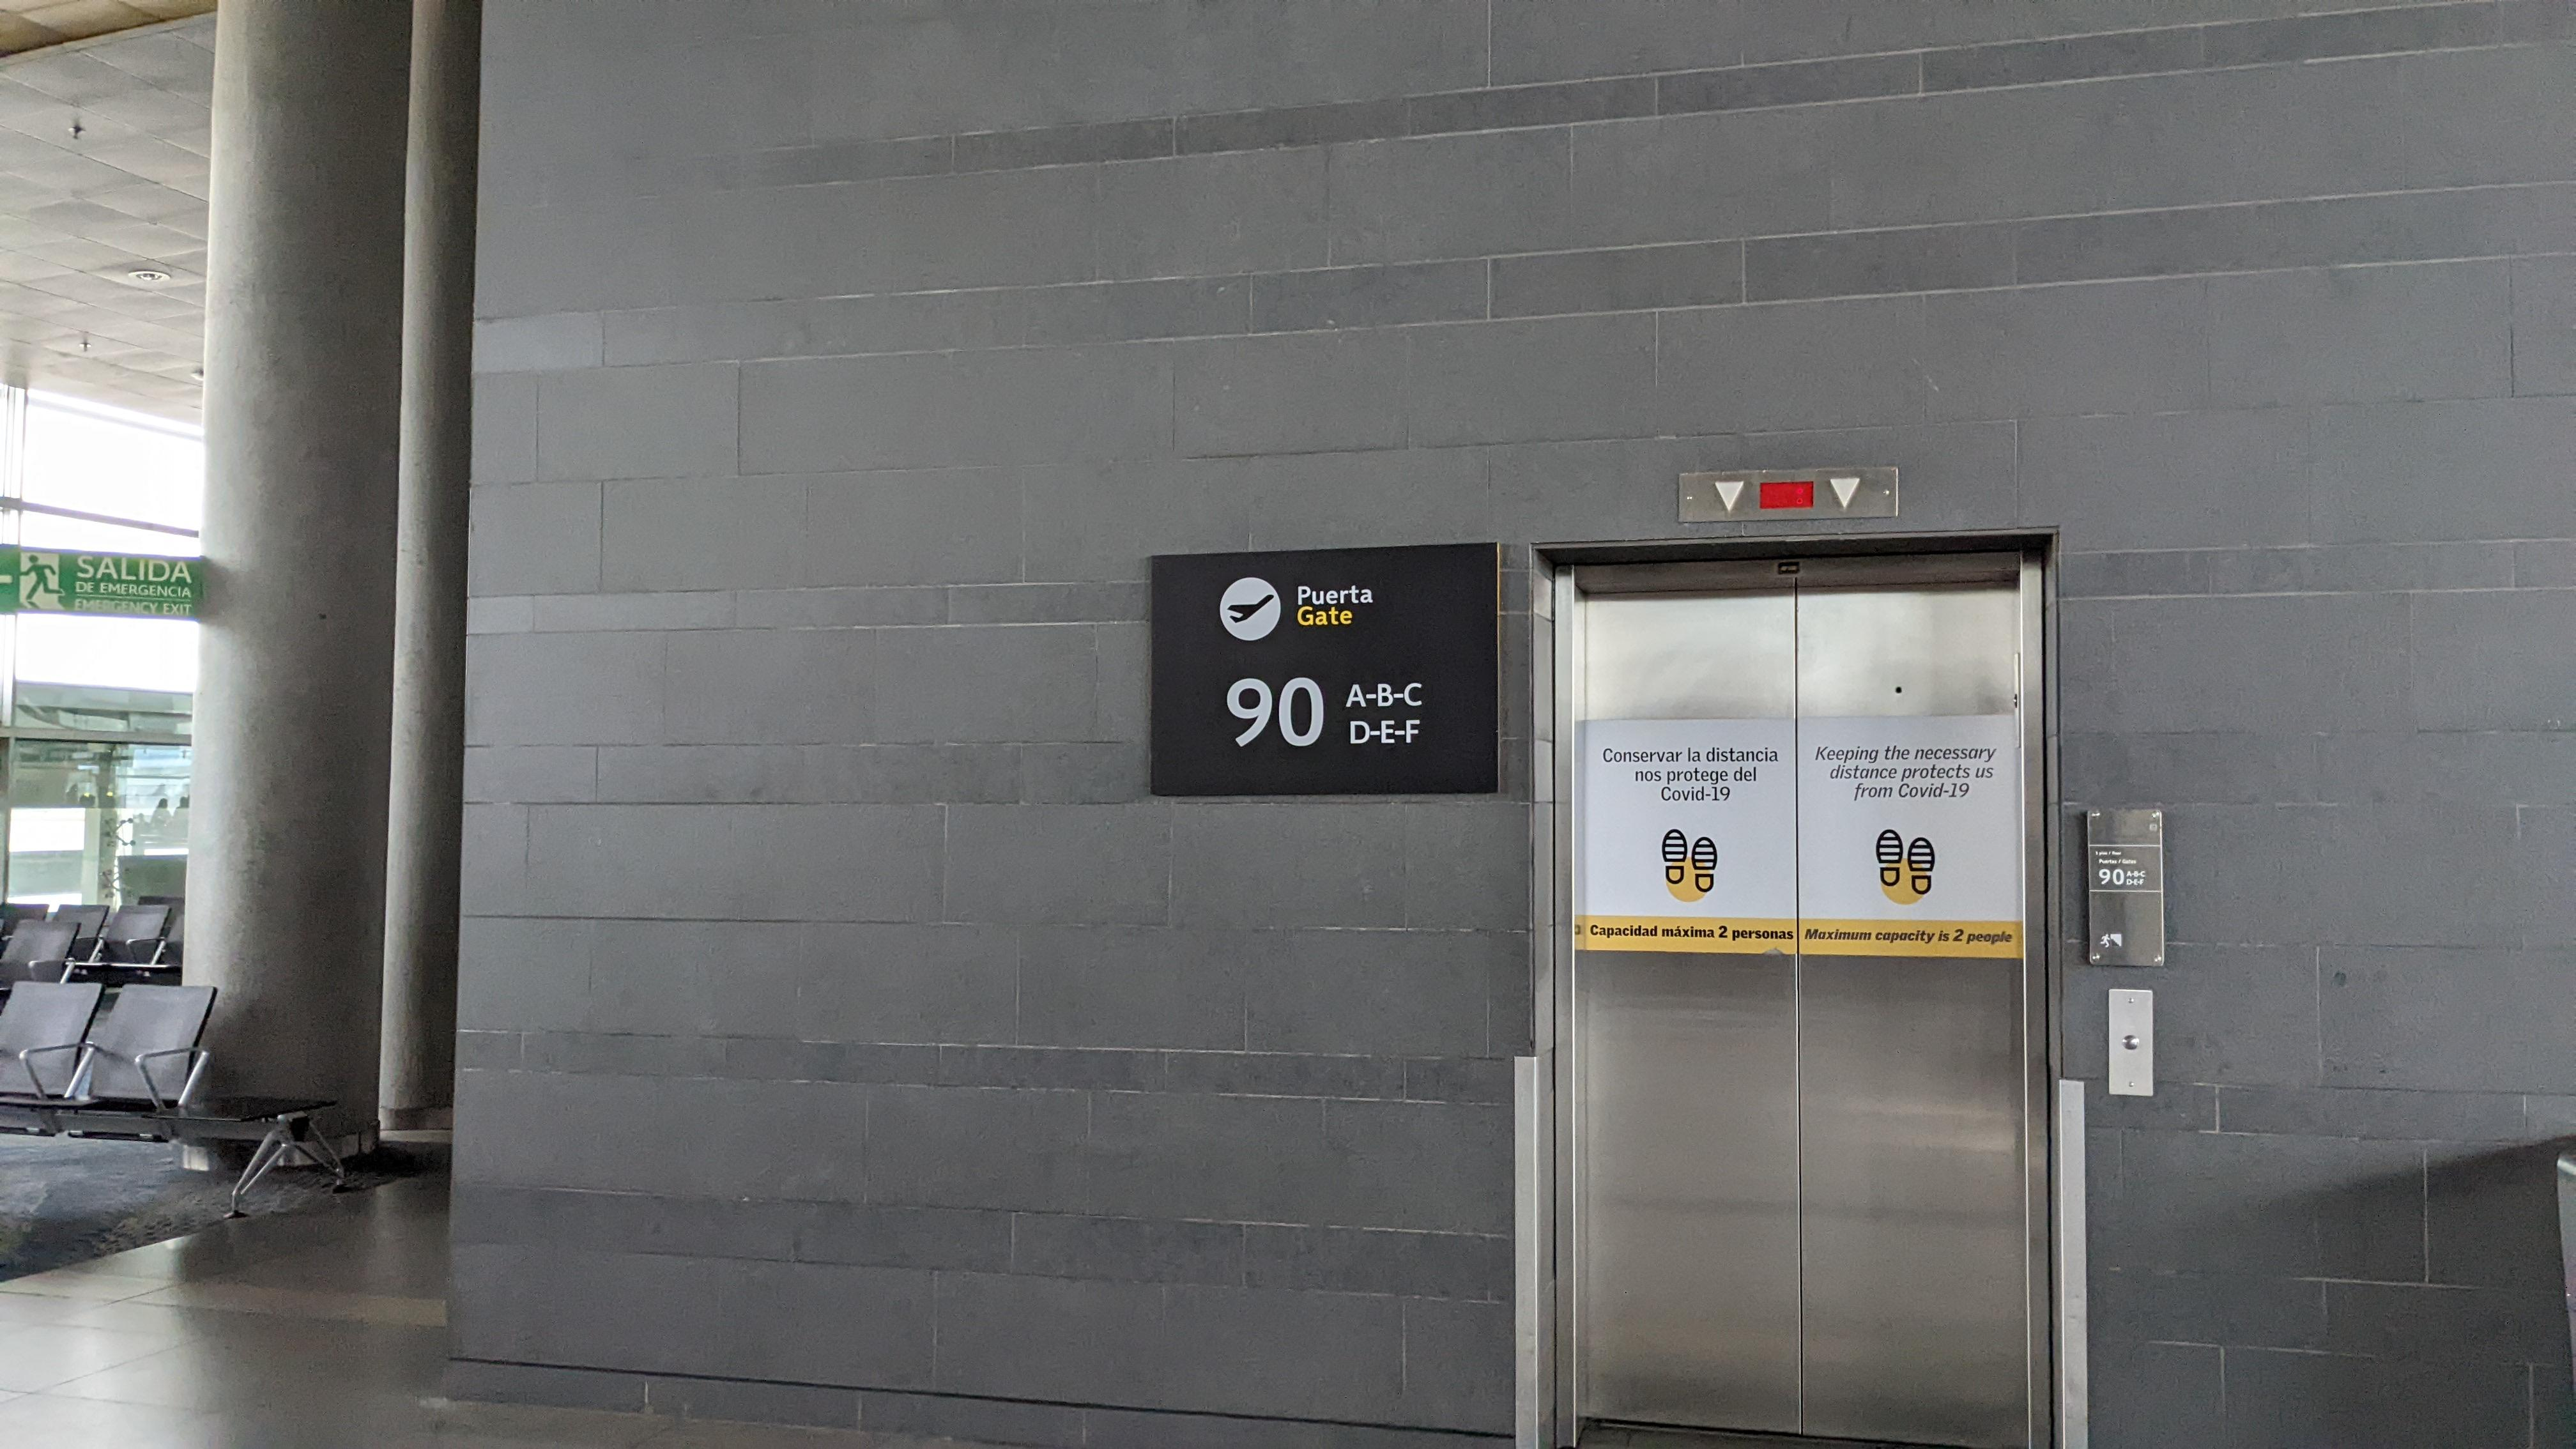airplane symbol: (1226, 592, 1276, 625)
